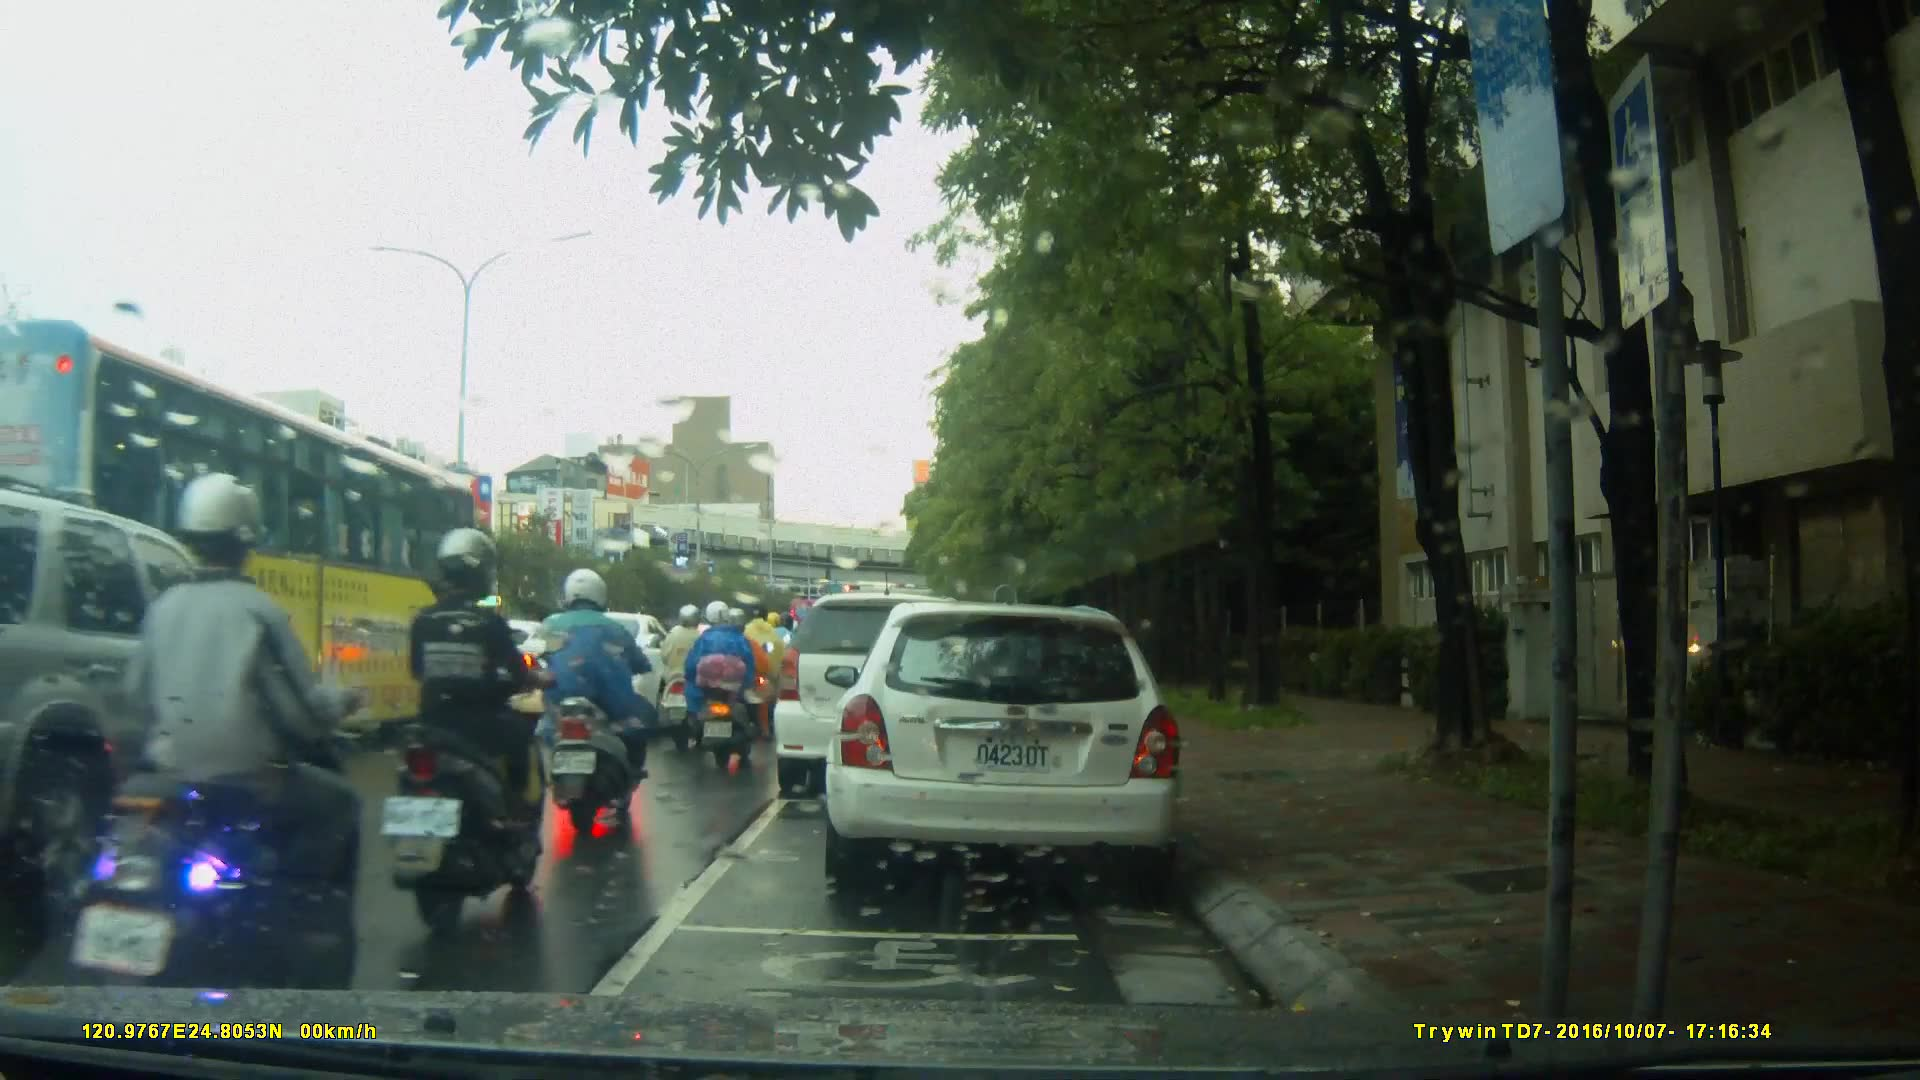rider: (57, 468, 348, 1045), (380, 525, 555, 931), (547, 564, 660, 837), (684, 602, 778, 769), (654, 601, 718, 754), (731, 594, 788, 728)
vehicle: (1, 317, 493, 781), (1, 467, 348, 942), (835, 594, 1194, 898), (776, 590, 1026, 784), (492, 596, 693, 736)
